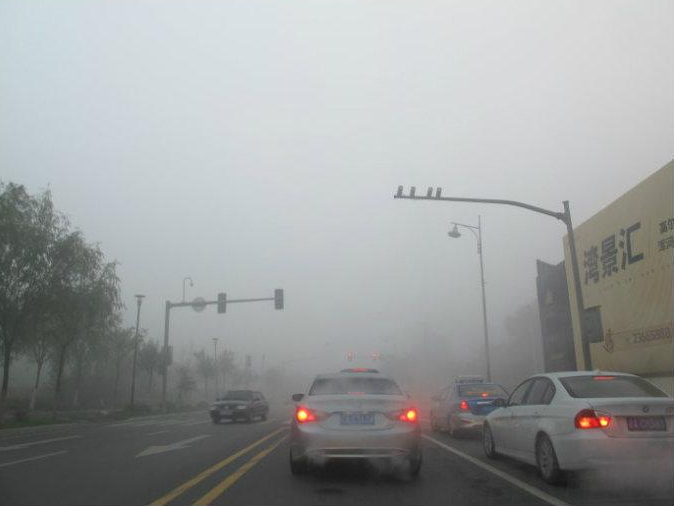car: (482, 369, 672, 486), (290, 367, 423, 479), (428, 375, 518, 441), (209, 390, 268, 425)
